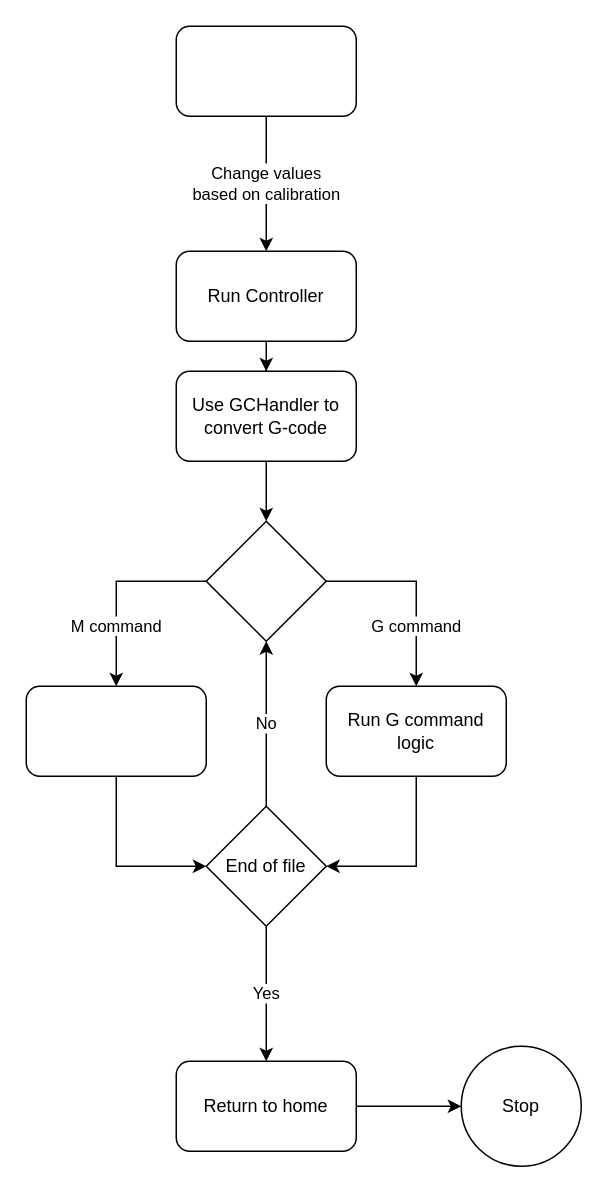
Some shapes in this 608 by 1193 pixel diagram are drawn without their labels. The shapes that lost their labels are listed below. From the top down, each one's box as (x1, y1, x2, y2) in pixels, then its label:
(175, 25, 356, 116): Run calibration
(205, 520, 326, 641): Run Command
(25, 685, 206, 776): Run M command logic
